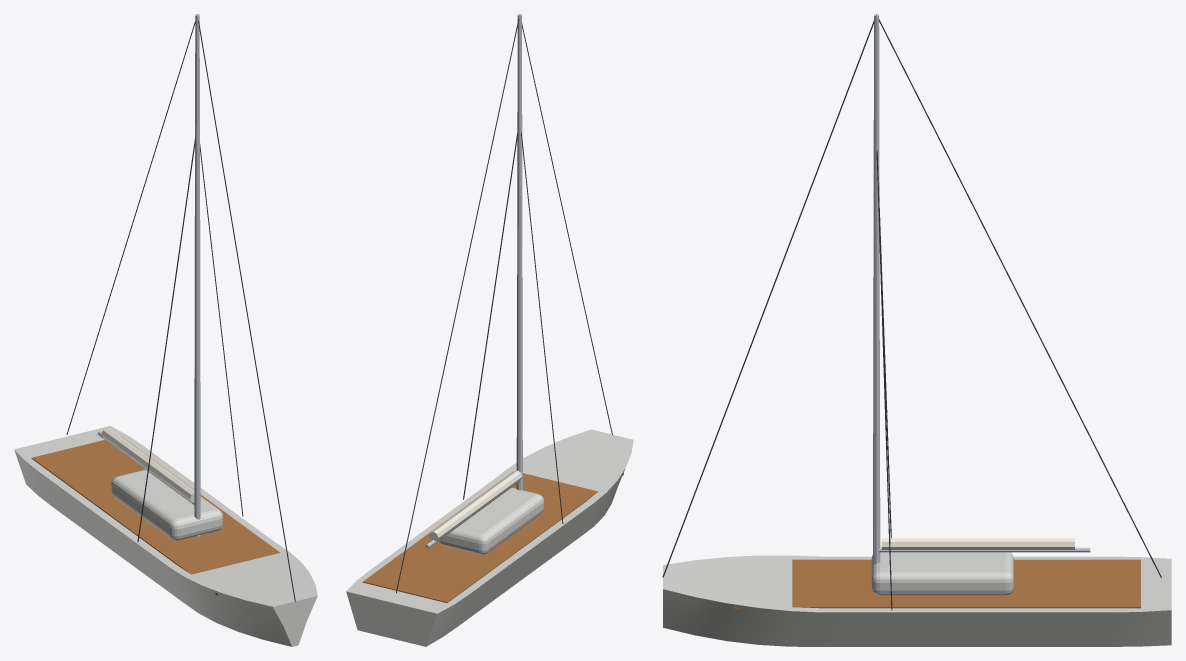
The model's file is sail_yacht_a.glb.
The picture shows the model from 3 angles, left to right: view 1: azimuth 30°, elevation 25°; view 2: azimuth 150°, elevation 25°; view 3: azimuth 270°, elevation 25°; orthographic projection. The views are drawn at different scales.
Parts seen in each view (by area): view 1: sailyacht; view 2: sailyacht; view 3: sailyacht.
Part boxes in pixels (x1,y1,x2,y2): sailyacht: [14, 14, 317, 646]; sailyacht: [346, 14, 633, 646]; sailyacht: [662, 14, 1171, 646].
Bounding box in the file's own units: 6.29 × 31.81 × 24.03.
